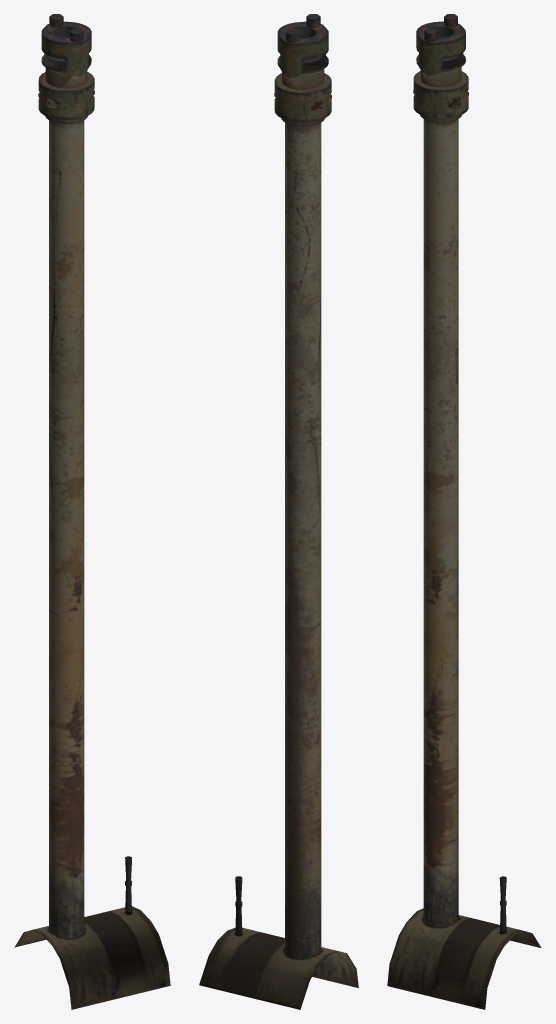
The model's file is Gun_03.glb.
The picture shows the model from 3 angles, left to right: view 1: azimuth 30°, elevation 25°; view 2: azimuth 150°, elevation 25°; view 3: azimuth 330°, elevation 25°; orthographic projection. The views are drawn at different scales.
Parts seen in each view (by area): view 1: set_0_group_0; view 2: set_0_group_0; view 3: set_0_group_0.
Part boxes in pixels (x1,y1,x2,y2): set_0_group_0: (14,14,170,1009); set_0_group_0: (199,14,358,1009); set_0_group_0: (387,14,541,1009).
Bounding box in the file's own units: 0.4713 × 4.35 × 0.4706.
Materials: 1 (1 with a texture image).
